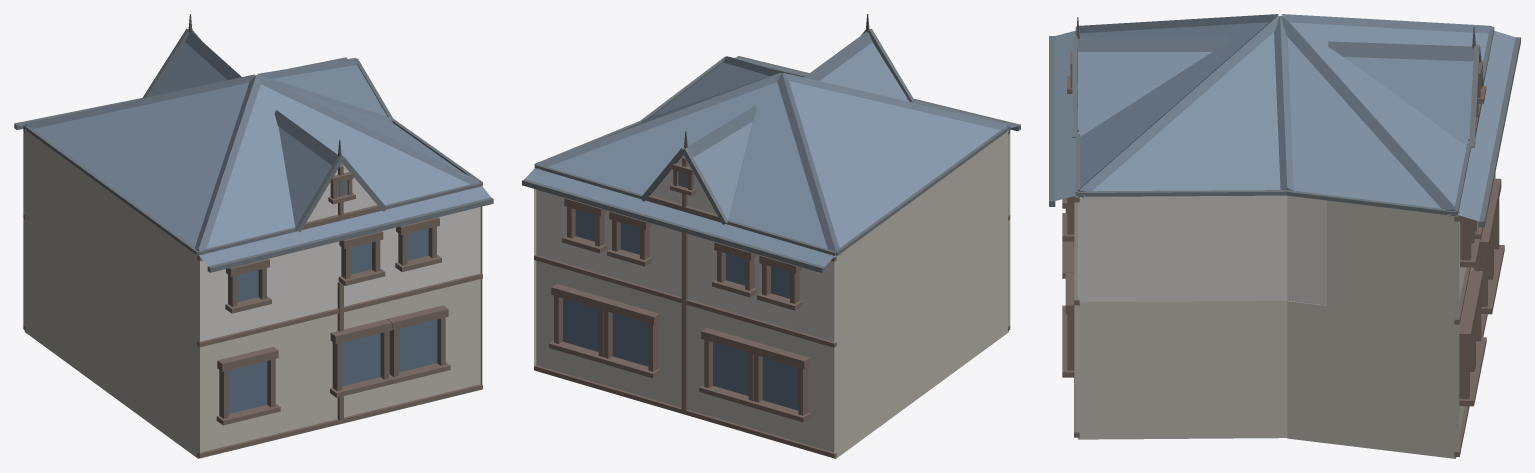
The model's file is b099_closed.glb.
3 renders of one model, left to right at view 1: azimuth 30°, elevation 25°; view 2: azimuth 150°, elevation 25°; view 3: azimuth 270°, elevation 25°, orthographic. The views are drawn at different scales.
Visible parts, largest first — view 1: B099_visible; view 2: B099_visible; view 3: B099_visible.
Part boxes in pixels (bbox=[...]): B099_visible: bbox=[14, 14, 493, 458]; B099_visible: bbox=[522, 14, 1020, 458]; B099_visible: bbox=[1049, 14, 1520, 458].
Bounding box in the file's own units: 10.5 × 8.99 × 11.19.
